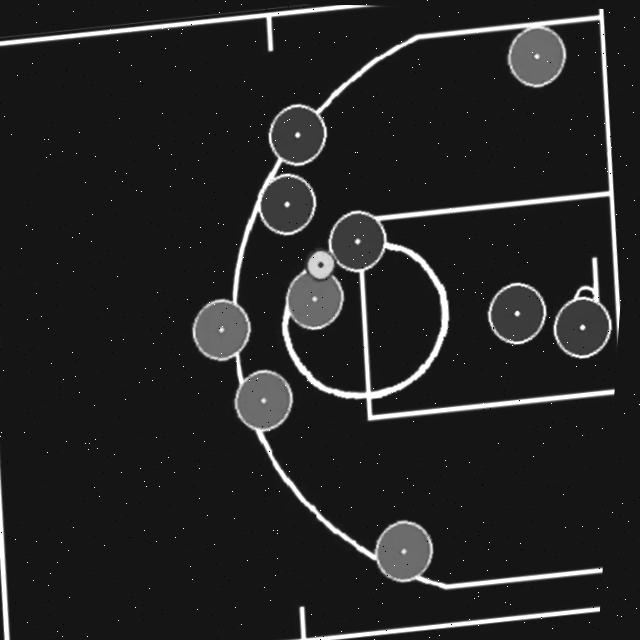Basketball: (307, 247, 337, 279)
Team_A: (258, 172, 318, 234), (330, 209, 389, 271), (491, 280, 549, 343), (556, 294, 614, 356), (269, 103, 327, 165)
Team_B: (195, 297, 254, 360), (506, 24, 566, 85), (382, 519, 440, 581), (290, 265, 347, 328), (239, 369, 297, 430)
